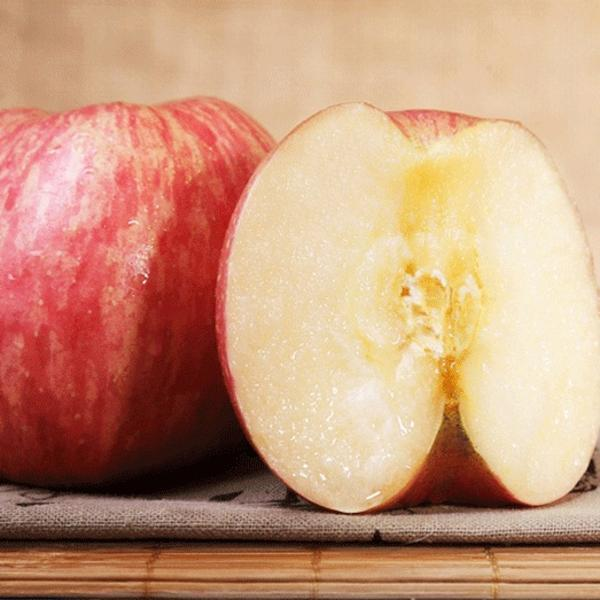apple: (2, 100, 272, 496)
